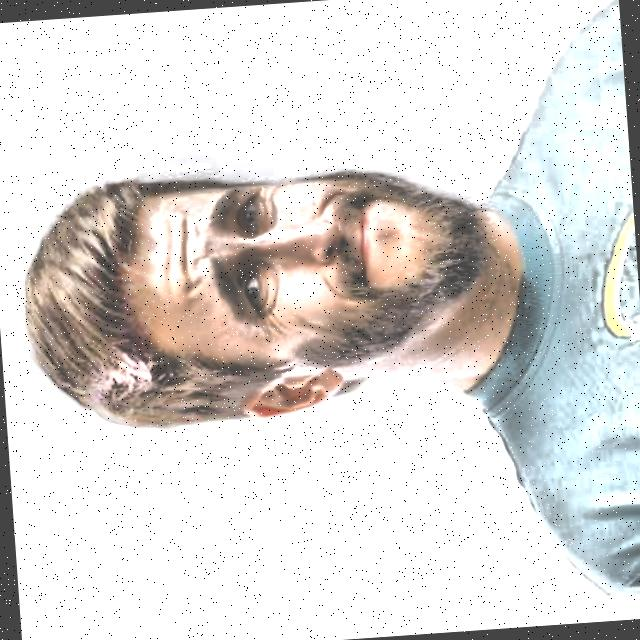disgust: (0, 140, 511, 441)
